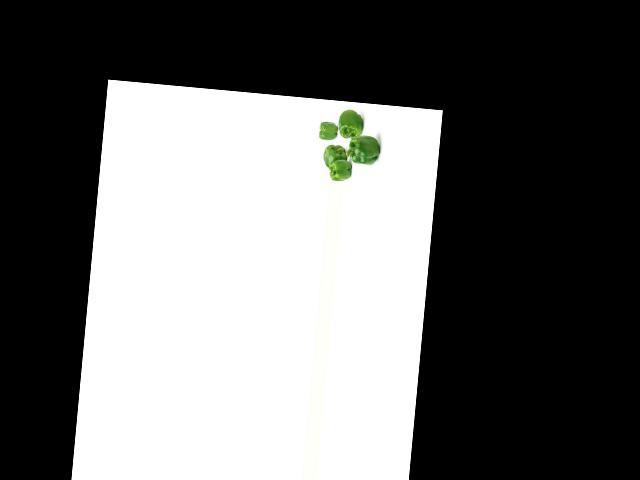bell_pepper: (329, 157, 355, 182)
